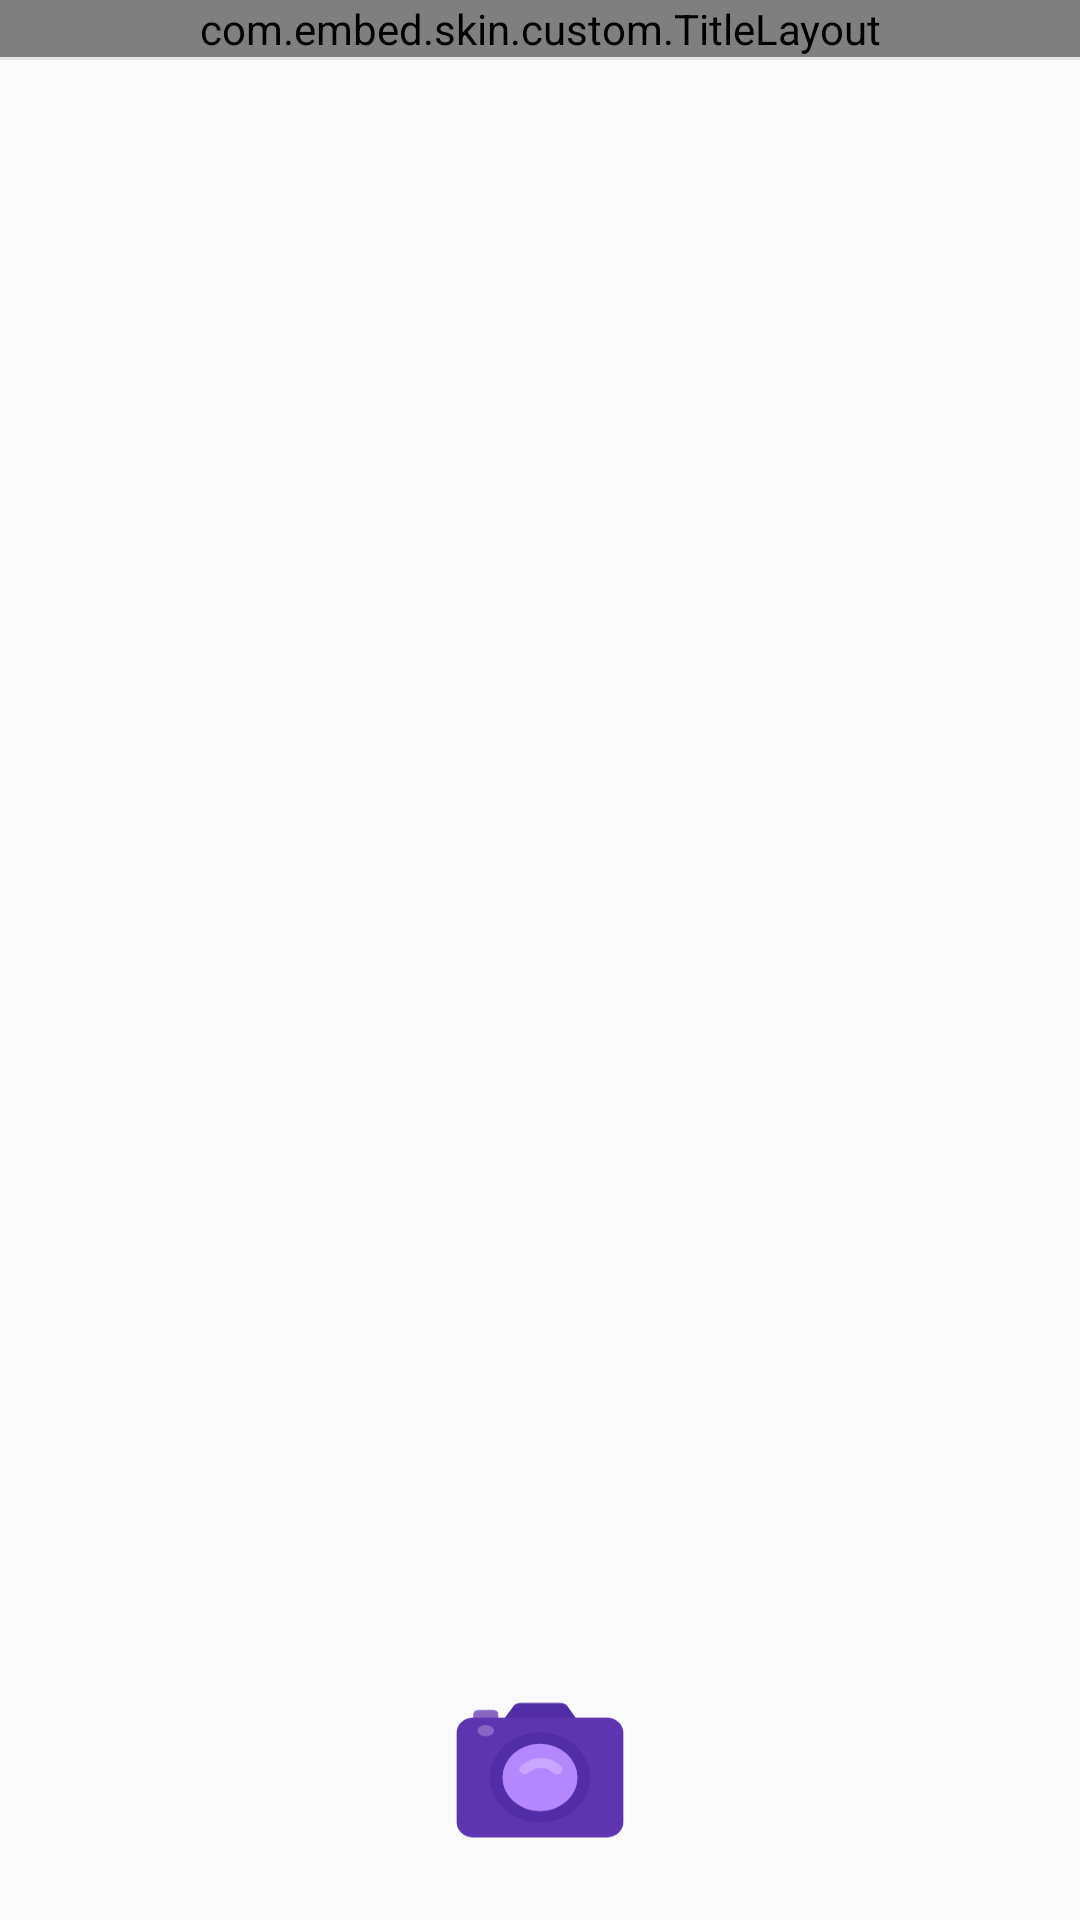

Icons on this 1080 x 1920 Android screen, each with its box as (x1, y1, x2, y2):
camera: (456, 1702, 624, 1838)
